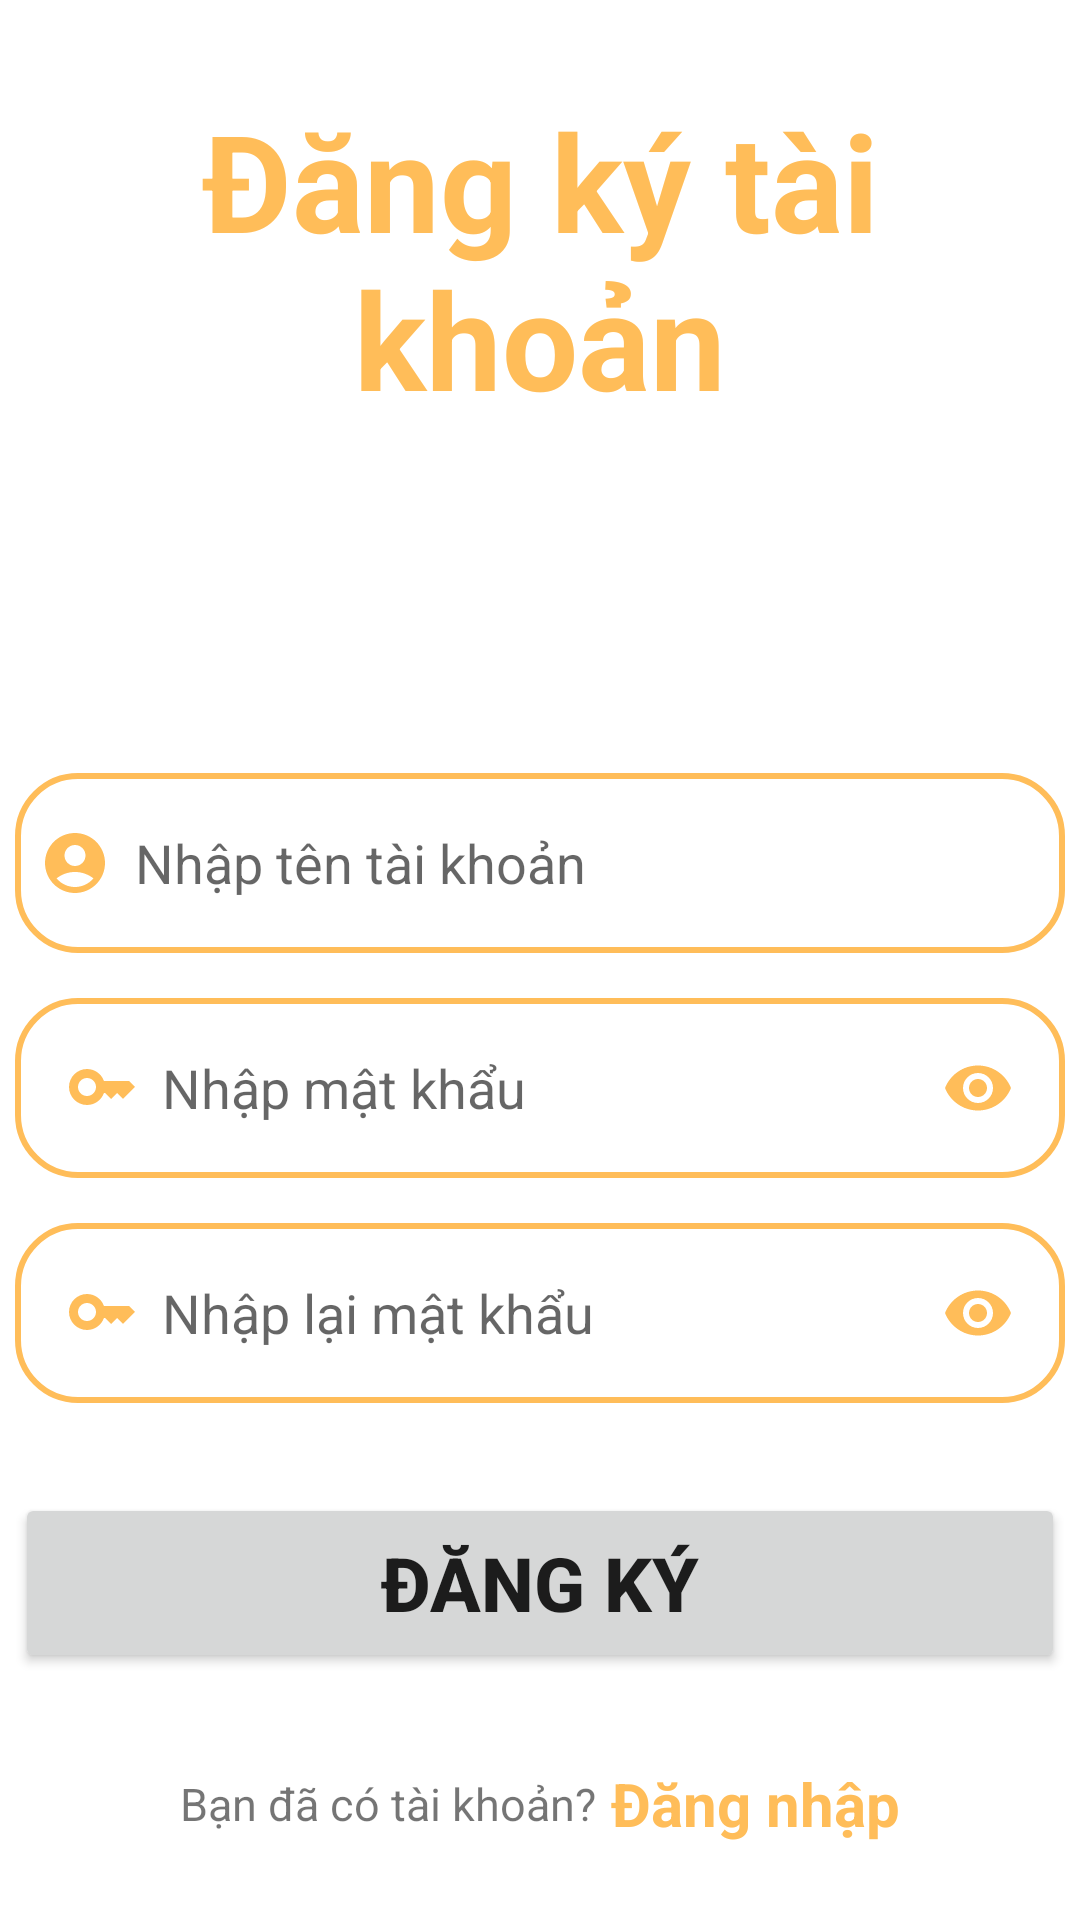

Icons on this 1080x1920 Android screen, each with the point to tap as (x=x, y=y):
visibility: (x=978, y=1088), (x=978, y=1313)
